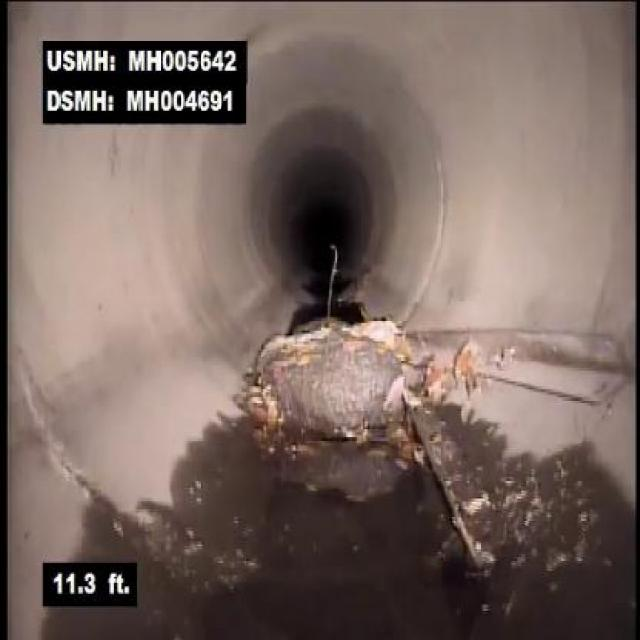Obstacle: (231, 291, 412, 463)
